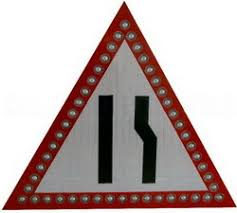Narrow_road: (1, 1, 237, 208)
